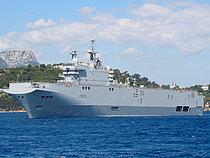MIL_Ship: (0, 42, 206, 119)
